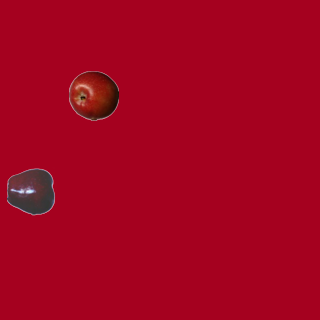Apple Braeburn: (68, 70, 118, 120)
Apple Red Delicious: (6, 166, 56, 216)
